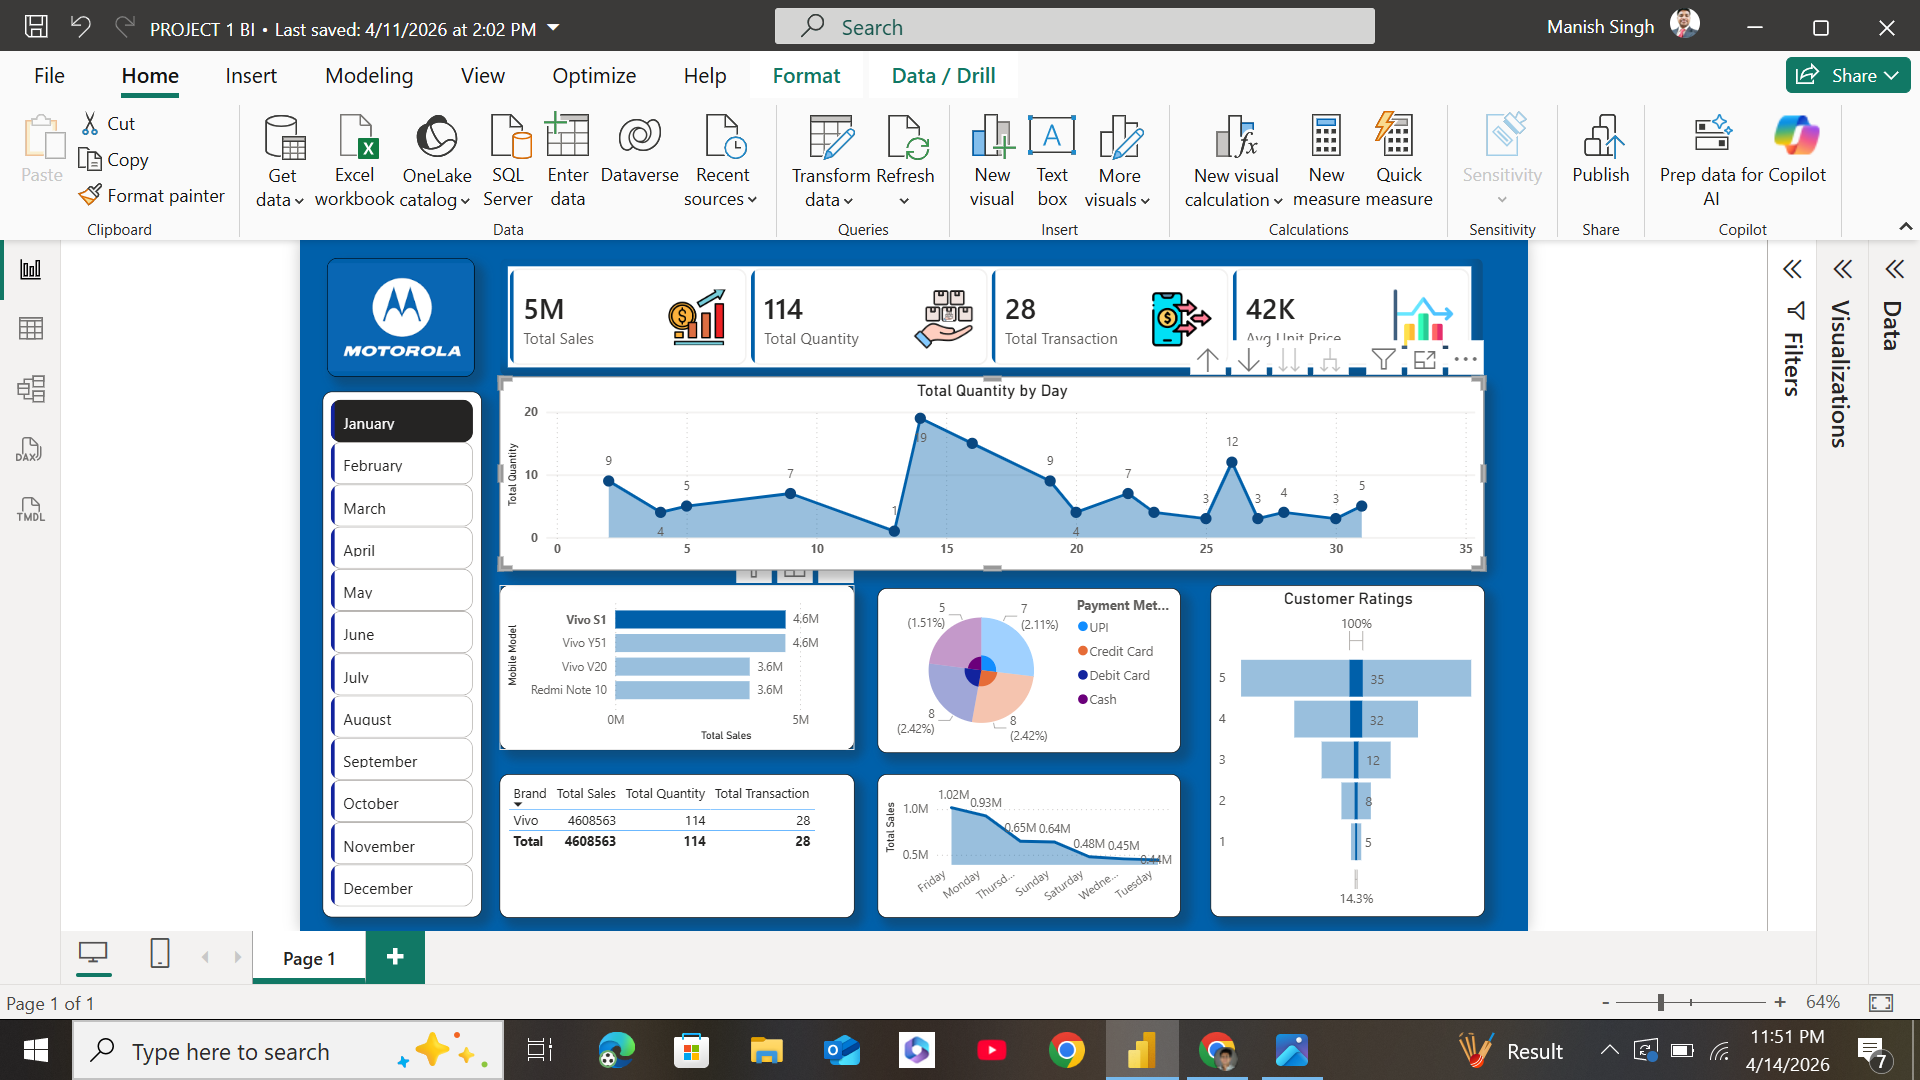

Layout of this report page (visuals, bound fields, positions):
{"tool":"powerbi","page":{"name":"Page 1","canvas":[1280,720],"ordinal":0},"visuals":[{"type":"image","box":[28,18,154,124],"z":0},{"type":"advancedSlicerVisual","fields":{"Values":["Sheet1.Date.Variation.Date Hierarchy.Month"]},"box":[24,158,166,548],"z":1000},{"type":"cardVisual","fields":{"Data":["mobile sales.total_sales","mobile sales.Total Quantity","mobile sales.Total Transaction","mobile sales.Avg Unit Price"]},"box":[207.9,18.8,1025.3,123.5],"z":2000},{"type":"image","box":[374,52,80,58],"z":3000},{"type":"image","box":[632,52,78,62],"z":4000},{"type":"image","box":[1132,52,78,62],"z":5000},{"type":"image","box":[670,48,10,62],"z":6000},{"type":"image","box":[880,52,78,62],"z":7000},{"type":"lineChart","fields":{"Y":["mobile sales.Total Quantity"],"Category":["mobile sales.Date.Variation.Date Hierarchy.Month","mobile sales.Date.Variation.Date Hierarchy.Day"]},"box":[208,142,1026,202],"z":8000},{"type":"clusteredBarChart","fields":{"Category":["mobile sales.Mobile Model"],"Y":["mobile sales.Total Sales"]},"box":[208,360,370,172],"z":9000},{"type":"pieChart","fields":{"Category":["mobile sales.Payment Method"],"Y":["mobile sales.Total Transaction"]},"box":[602,362,316,172],"z":10000},{"type":"funnel","title":" Customer Ratings ","fields":{"Y":["Sum(mobile sales.Customer Ratings)"],"Category":["mobile sales.Customer Ratings"]},"box":[948,360,286,346],"z":11000},{"type":"tableEx","fields":{"Values":["mobile sales.Brand","mobile sales.Total Sales","mobile sales.Total Quantity","mobile sales.Total Transaction"]},"box":[208,556,370,150],"z":12000},{"type":"areaChart","fields":{"Y":["mobile sales.Total Sales"],"Category":["mobile sales.Day Name"]},"box":[602,556,316,150],"z":13000}]}

Visuals, with their boxes on the page's 1280x720 design canvas (x1, y1, x2, y2). These are canvas units, not pixel positions in the 1920x1080 screenshot, which may show the page scaled, cropped or inside an application window:
image: Rect(28, 18, 182, 142)
advancedSlicerVisual - Sheet1.Date.Variation.Date Hierarchy.Month: Rect(24, 158, 190, 706)
cardVisual - mobile sales.total_sales x mobile sales.Total Quantity: Rect(208, 19, 1233, 142)
image: Rect(374, 52, 454, 110)
image: Rect(632, 52, 710, 114)
image: Rect(1132, 52, 1210, 114)
image: Rect(670, 48, 680, 110)
image: Rect(880, 52, 958, 114)
lineChart - mobile sales.Total Quantity x mobile sales.Date.Variation.Date Hierarchy.Month: Rect(208, 142, 1234, 344)
clusteredBarChart - mobile sales.Mobile Model x mobile sales.Total Sales: Rect(208, 360, 578, 532)
pieChart - mobile sales.Payment Method x mobile sales.Total Transaction: Rect(602, 362, 918, 534)
" Customer Ratings " funnel: Rect(948, 360, 1234, 706)
tableEx - mobile sales.Brand x mobile sales.Total Sales: Rect(208, 556, 578, 706)
areaChart - mobile sales.Total Sales x mobile sales.Day Name: Rect(602, 556, 918, 706)
